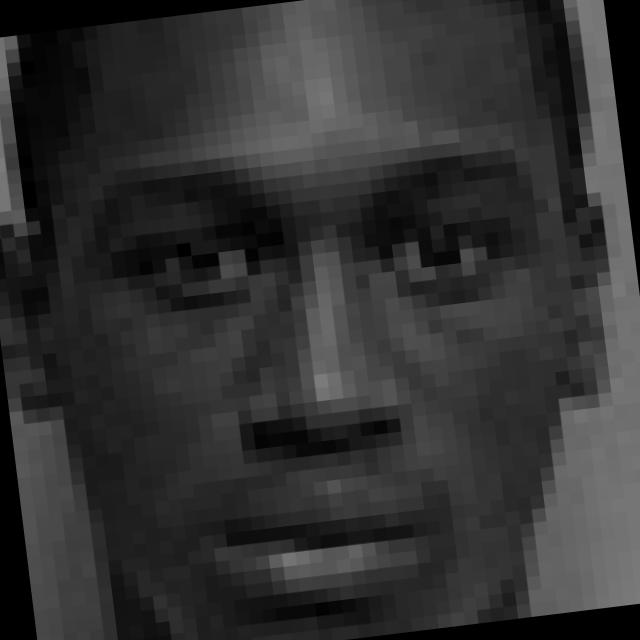neutral: (70, 103, 591, 640)
